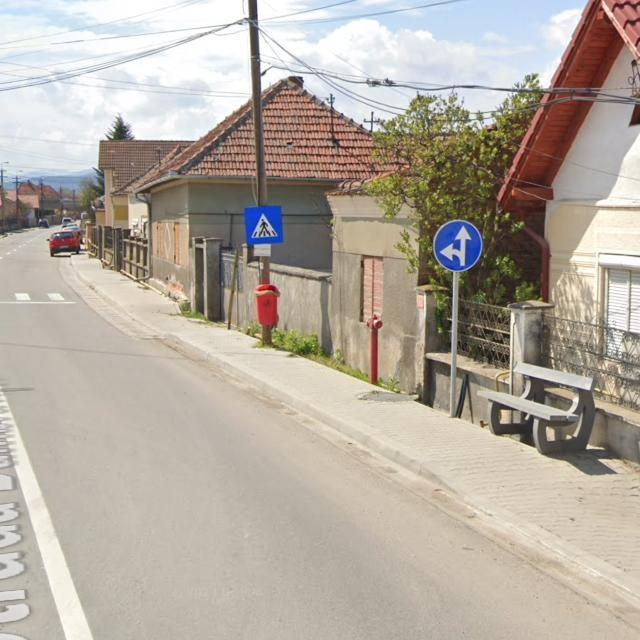info_crosswalk: (244, 206, 283, 245)
